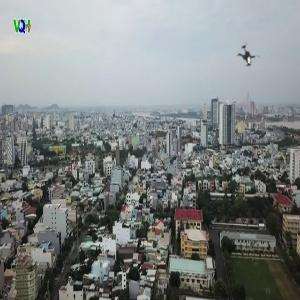drone: (221, 32, 272, 83)
